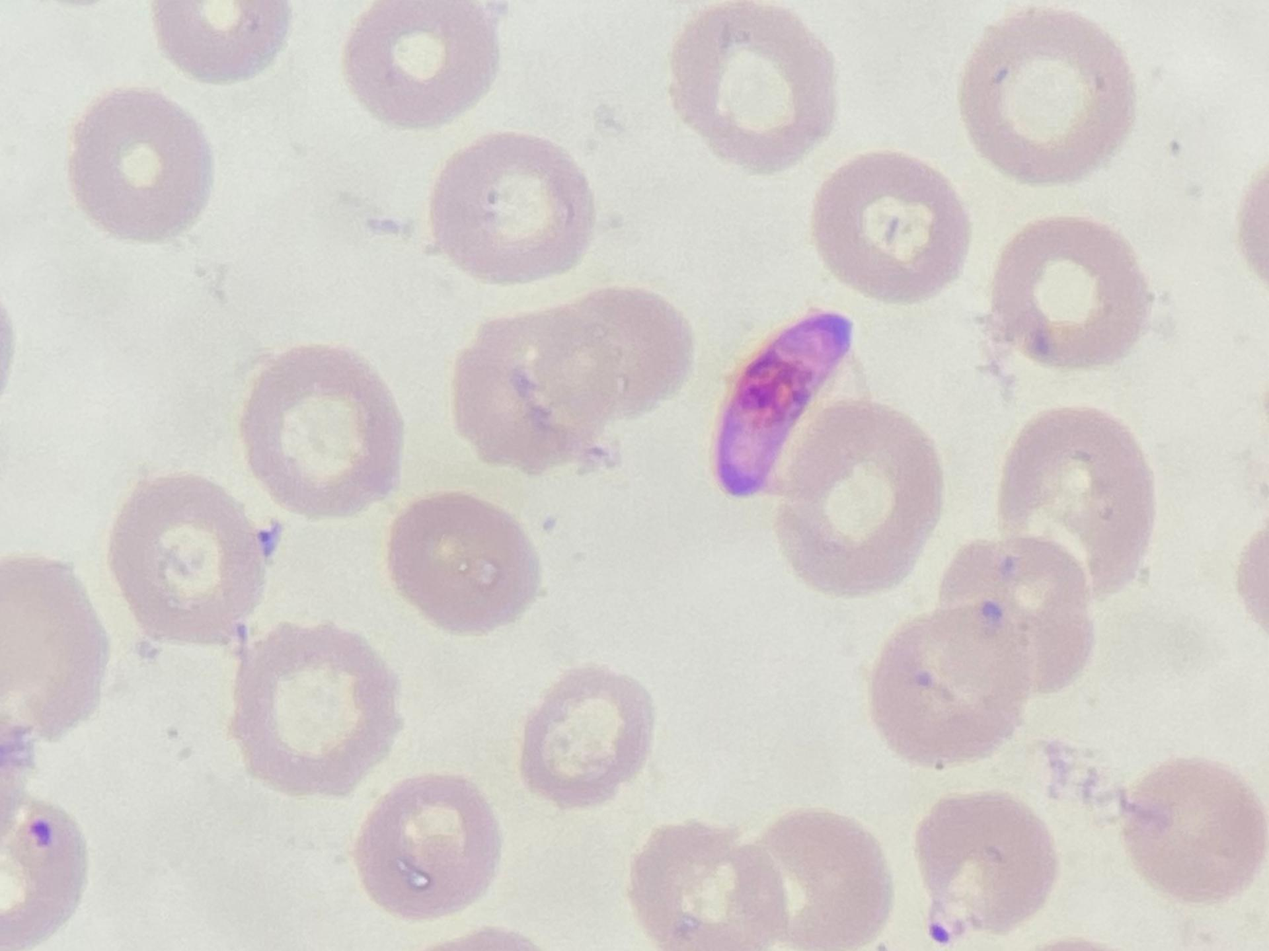Infected: (710, 307, 856, 495), (913, 794, 1056, 940)
Uninfected: (457, 287, 686, 471), (768, 402, 942, 591), (996, 407, 1156, 593), (960, 11, 1134, 182), (237, 342, 407, 515), (233, 624, 401, 793), (104, 477, 273, 637), (673, 3, 835, 168), (868, 606, 1034, 764), (937, 537, 1096, 697), (990, 216, 1152, 368), (429, 133, 590, 281), (815, 155, 971, 301), (386, 492, 543, 635), (70, 88, 213, 241), (356, 775, 502, 919), (746, 810, 892, 950), (344, 1, 500, 130), (1120, 759, 1263, 897), (518, 667, 654, 807), (630, 822, 775, 949)
